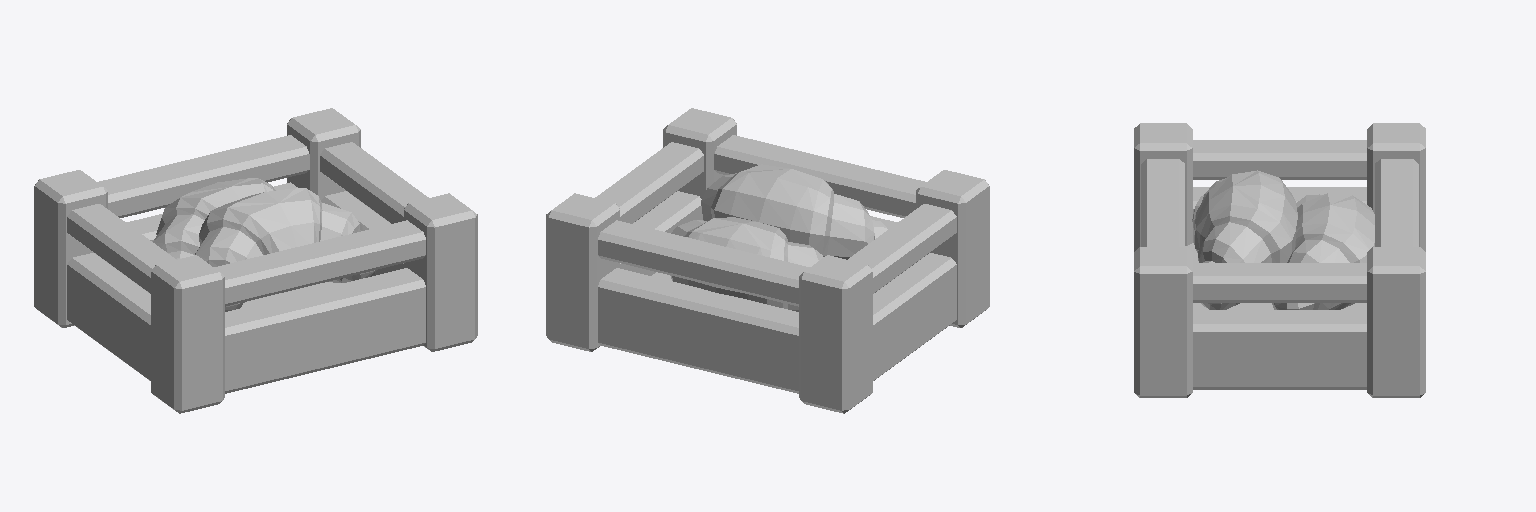
The model's file is crate_croissant.obj.
The picture shows the model from 3 angles: view 1: azimuth 30°, elevation 25°; view 2: azimuth 150°, elevation 25°; view 3: azimuth 270°, elevation 25°; orthographic projection.
Visible parts, largest first — view 1: crate_croissant; view 2: crate_croissant; view 3: crate_croissant.
Boxes of the visible parts, <box> form: crate_croissant: <box>34,108,477,413</box>; crate_croissant: <box>546,108,989,413</box>; crate_croissant: <box>1134,123,1425,397</box>.
Size of the model in its own units: 1.2 by 0.537 by 1.